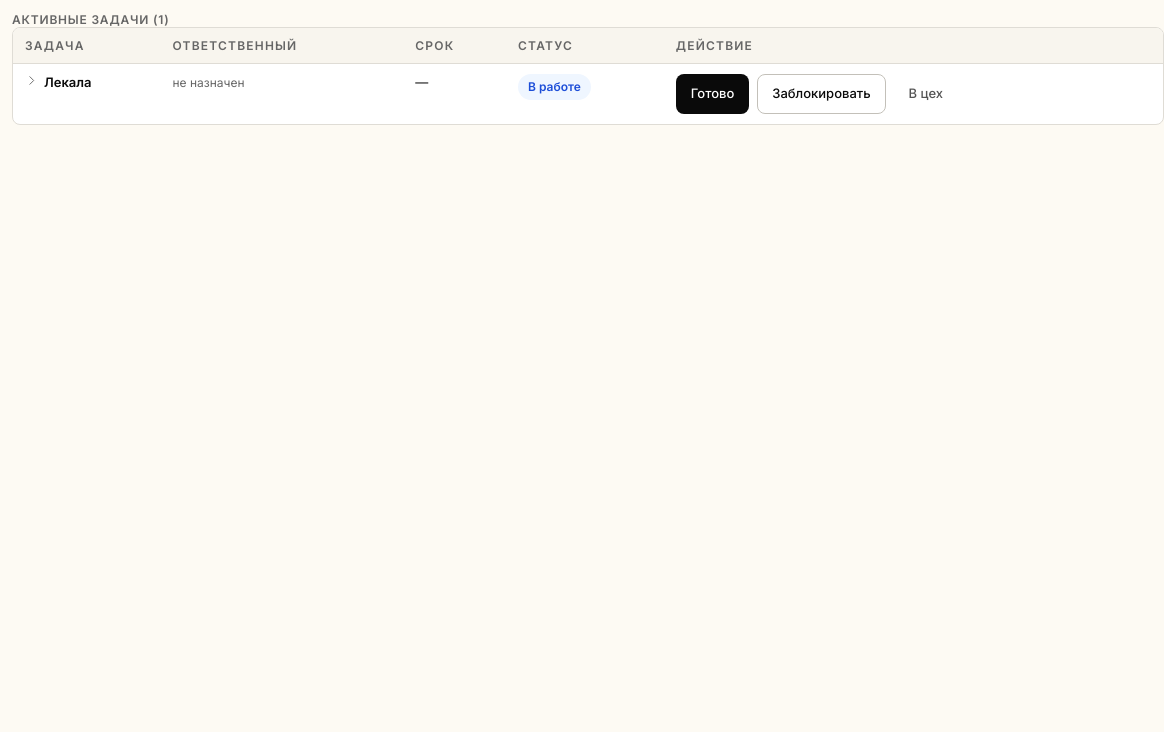
файл у задачи (п. 4.4) › показаны файлы ЭТОЙ задачи, а не всей разработки
Click the text "Лекала" at (68, 82), box [44,74,92,90]
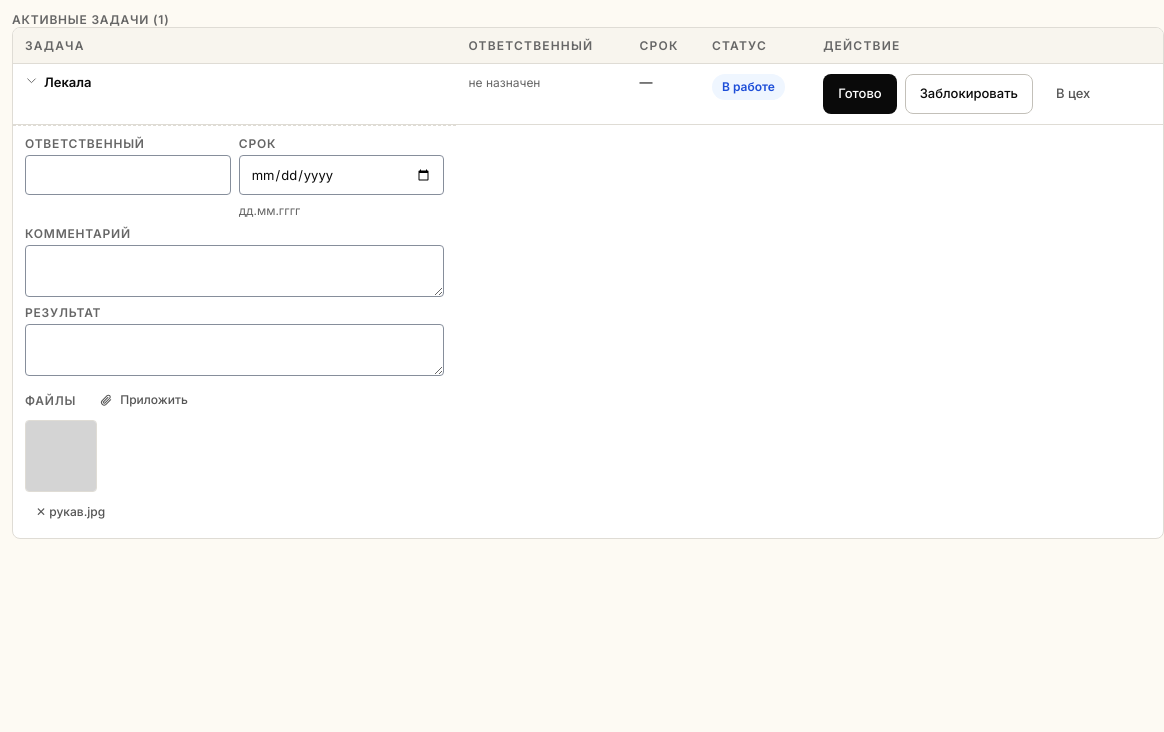
Check: the button "✕ рукав.jpg" is shown, box [25,496,116,528]
